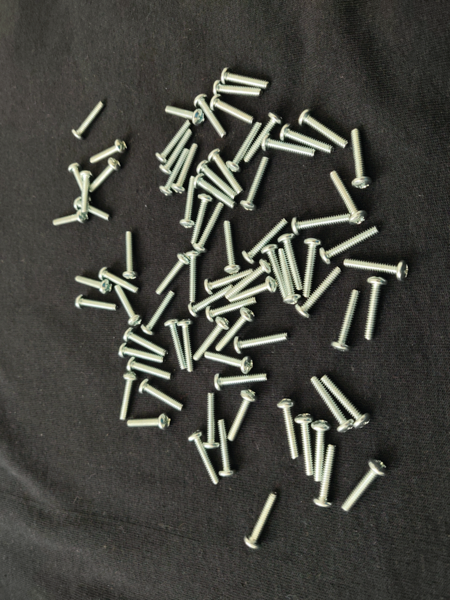longscrew: (319, 373, 372, 431), (341, 457, 390, 514), (295, 265, 343, 321), (310, 376, 356, 434), (320, 226, 381, 265), (329, 169, 369, 226), (298, 108, 351, 151), (243, 111, 284, 166), (242, 218, 289, 265), (245, 491, 279, 552), (331, 289, 362, 355), (224, 259, 272, 301), (214, 307, 257, 353), (226, 121, 263, 174), (187, 429, 221, 486), (279, 123, 336, 157), (343, 257, 411, 284), (137, 378, 188, 414), (192, 316, 231, 362), (227, 389, 260, 443), (239, 156, 270, 213), (207, 148, 244, 195), (196, 160, 238, 201), (260, 244, 289, 303), (192, 202, 224, 255), (141, 290, 177, 337), (194, 93, 229, 141), (188, 283, 234, 319), (277, 232, 305, 291), (291, 213, 359, 237), (156, 120, 192, 165), (194, 172, 236, 210), (276, 247, 303, 306), (159, 146, 189, 199), (313, 443, 337, 509), (350, 127, 374, 191), (160, 128, 192, 176), (155, 252, 189, 297), (364, 276, 387, 342), (205, 296, 259, 324), (261, 133, 319, 159), (276, 398, 300, 460), (210, 94, 258, 125), (171, 142, 199, 195), (205, 267, 255, 296), (233, 331, 289, 356), (71, 100, 105, 141), (123, 327, 169, 357), (311, 419, 332, 484), (112, 284, 143, 328), (229, 276, 277, 304), (88, 157, 124, 194), (295, 412, 315, 478), (164, 318, 188, 371), (220, 66, 270, 91), (98, 266, 141, 295), (190, 193, 213, 247), (216, 418, 236, 480), (125, 357, 174, 382), (302, 238, 322, 299), (213, 372, 271, 393), (204, 351, 254, 375), (202, 391, 221, 451), (176, 319, 197, 373), (88, 138, 130, 165), (118, 342, 166, 365), (73, 196, 113, 223), (117, 372, 138, 422), (67, 162, 92, 204), (184, 249, 203, 303), (223, 219, 241, 274), (179, 176, 197, 230), (212, 80, 265, 98), (165, 104, 206, 126), (126, 413, 173, 432), (73, 294, 119, 313), (73, 275, 114, 296), (122, 230, 138, 281), (78, 171, 94, 216), (52, 210, 89, 228)
